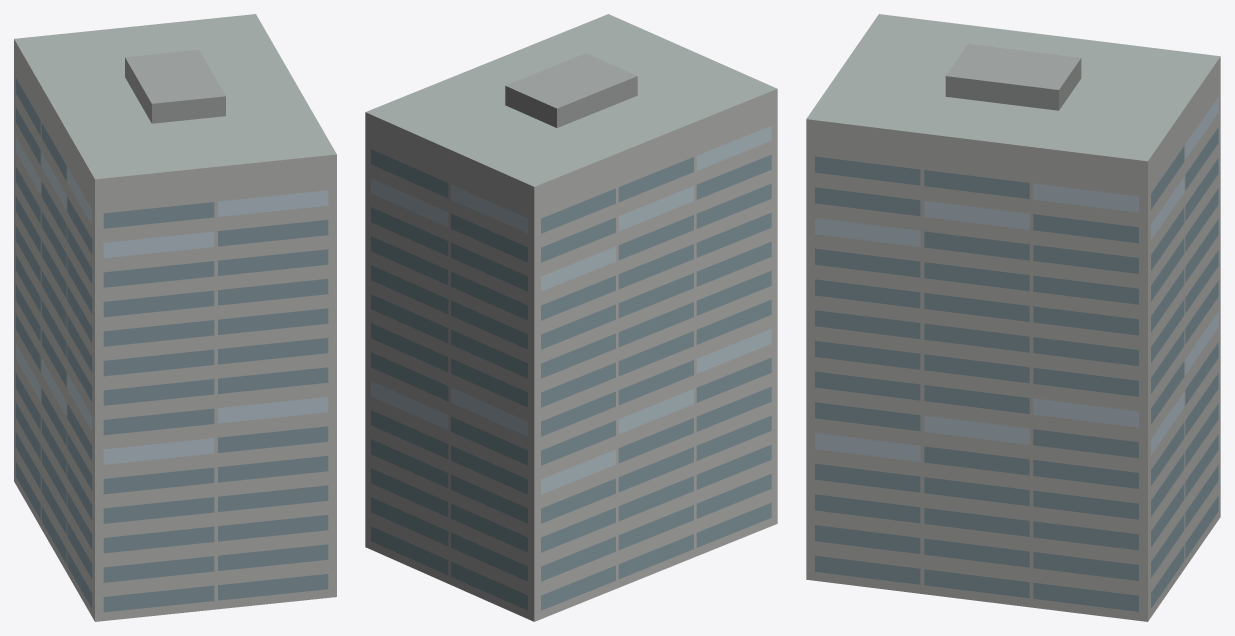
File: fallback-olympic-park-foreon-302.glb
3 renders of one model, left to right at view 1: azimuth 30°, elevation 25°; view 2: azimuth 150°, elevation 25°; view 3: azimuth 270°, elevation 25°, orthographic. The views are drawn at different scales.
Parts seen in each view (by area): view 1: fallback-olympic-park-foreon-302; view 2: fallback-olympic-park-foreon-302; view 3: fallback-olympic-park-foreon-302.
Part boxes in pixels (x1=…): fallback-olympic-park-foreon-302: x1=14, y1=14, x2=336, y2=621; fallback-olympic-park-foreon-302: x1=365, y1=14, x2=777, y2=621; fallback-olympic-park-foreon-302: x1=806, y1=14, x2=1220, y2=621.
Bounding box in the file's own units: 31.39 × 47.81 × 37.31.
